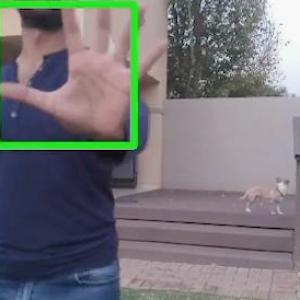follow_hand: (1, 0, 179, 141)
